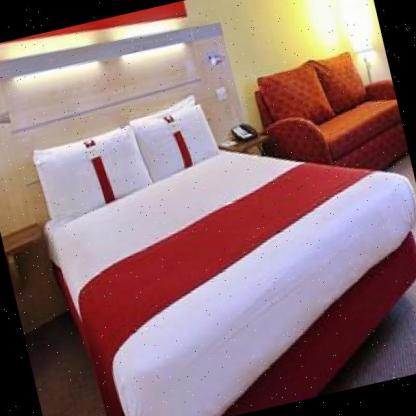Bed: (13, 41, 416, 416)
